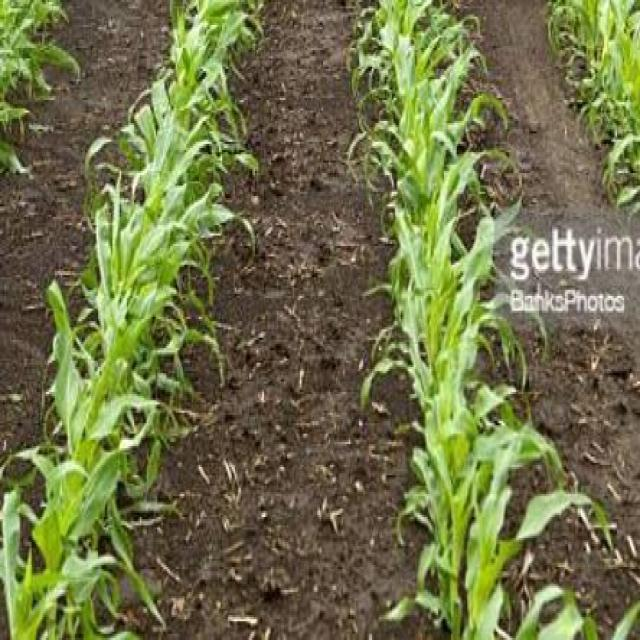row: (95, 0, 440, 640), (452, 0, 640, 640), (0, 1, 177, 579)
